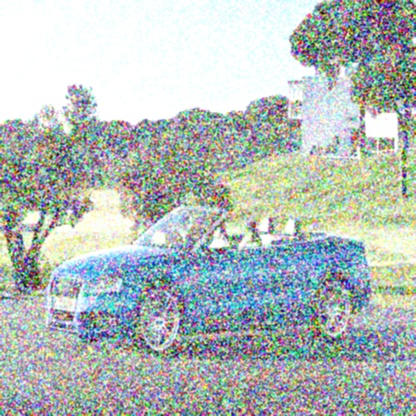Vehicle: (46, 206, 373, 356)
